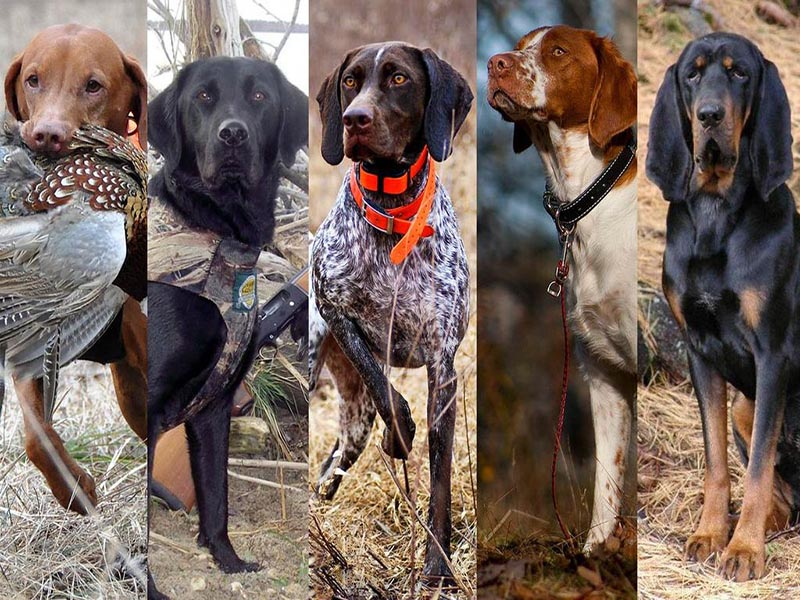cane da caccia: (654, 31, 795, 582), (491, 21, 635, 558), (153, 63, 299, 575), (323, 48, 459, 592), (4, 36, 140, 438)
